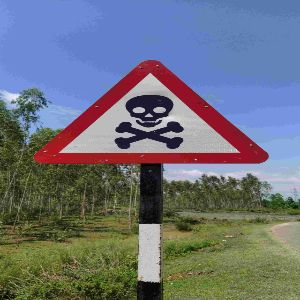Accident prone area: (26, 51, 278, 181)
